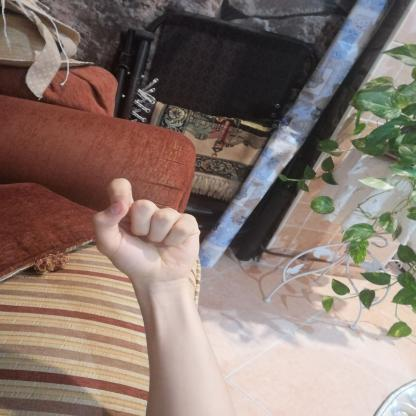FAA: (77, 168, 212, 292)
